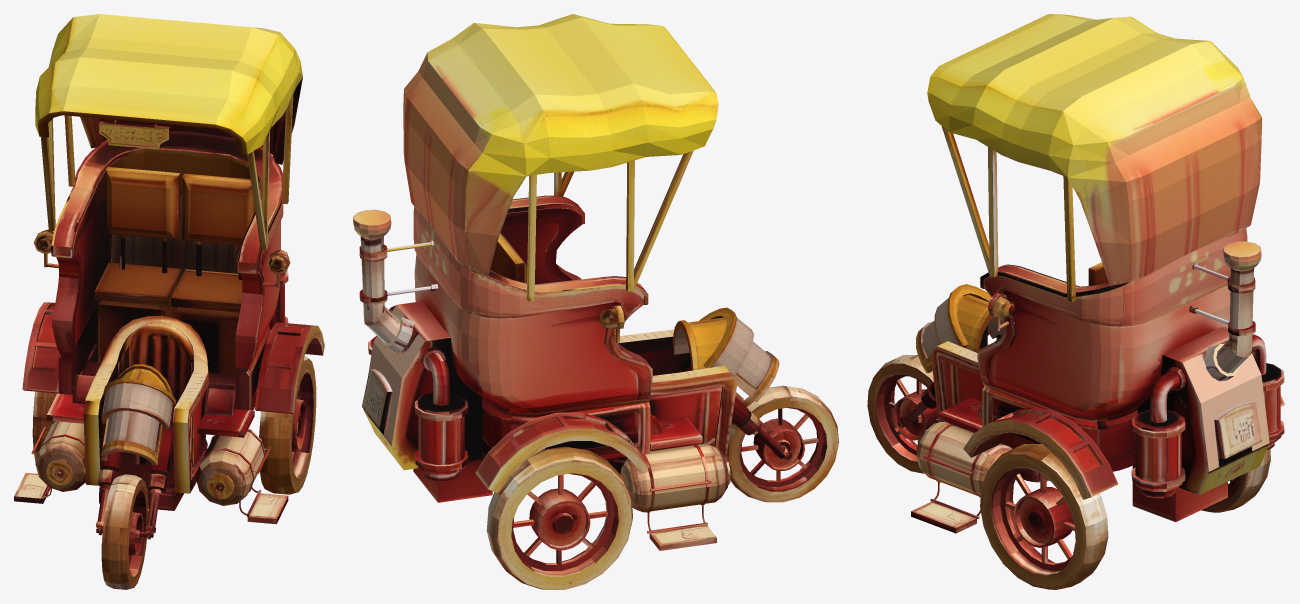
3 views of the same model, side by side, from view 1: azimuth 30°, elevation 25°; view 2: azimuth 150°, elevation 25°; view 3: azimuth 270°, elevation 25° (orthographic). The views are drawn at different scales.
Visible parts, largest first — view 1: model; view 2: model; view 3: model.
Part boxes in pixels (box(x1,y1,x2,y2)): model: box(14, 14, 324, 589); model: box(353, 14, 838, 589); model: box(867, 14, 1285, 589).
Size of the model in its own units: 0.7418 by 1 by 0.7906.
1 material, 1 textured.
